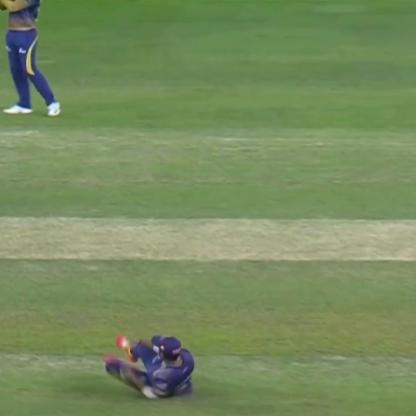ball: (118, 336, 133, 350)
